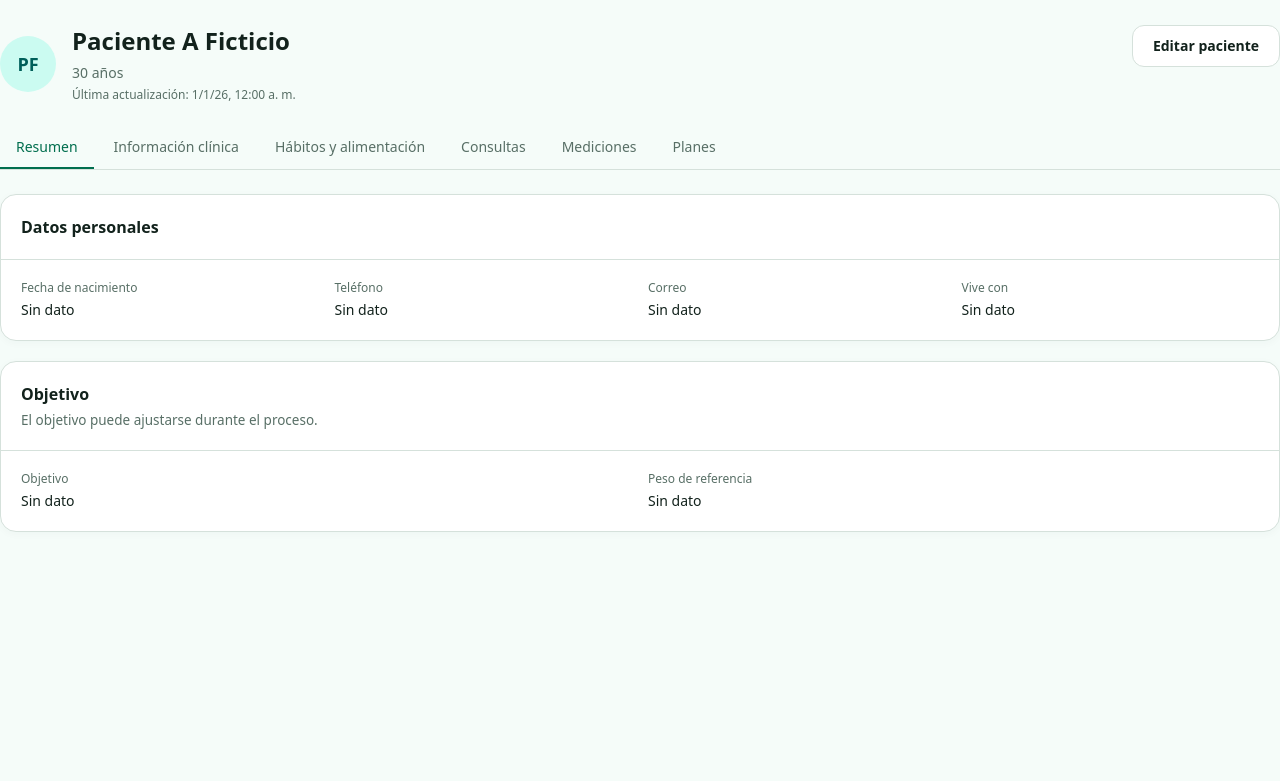
Test: ficha y pestañas con respuestas demoradas (AUD-017) › un error de eliminación vigente se muestra y permite reintentar
Click the button "Información clínica": coordinates (176, 148) [98,127,255,169]
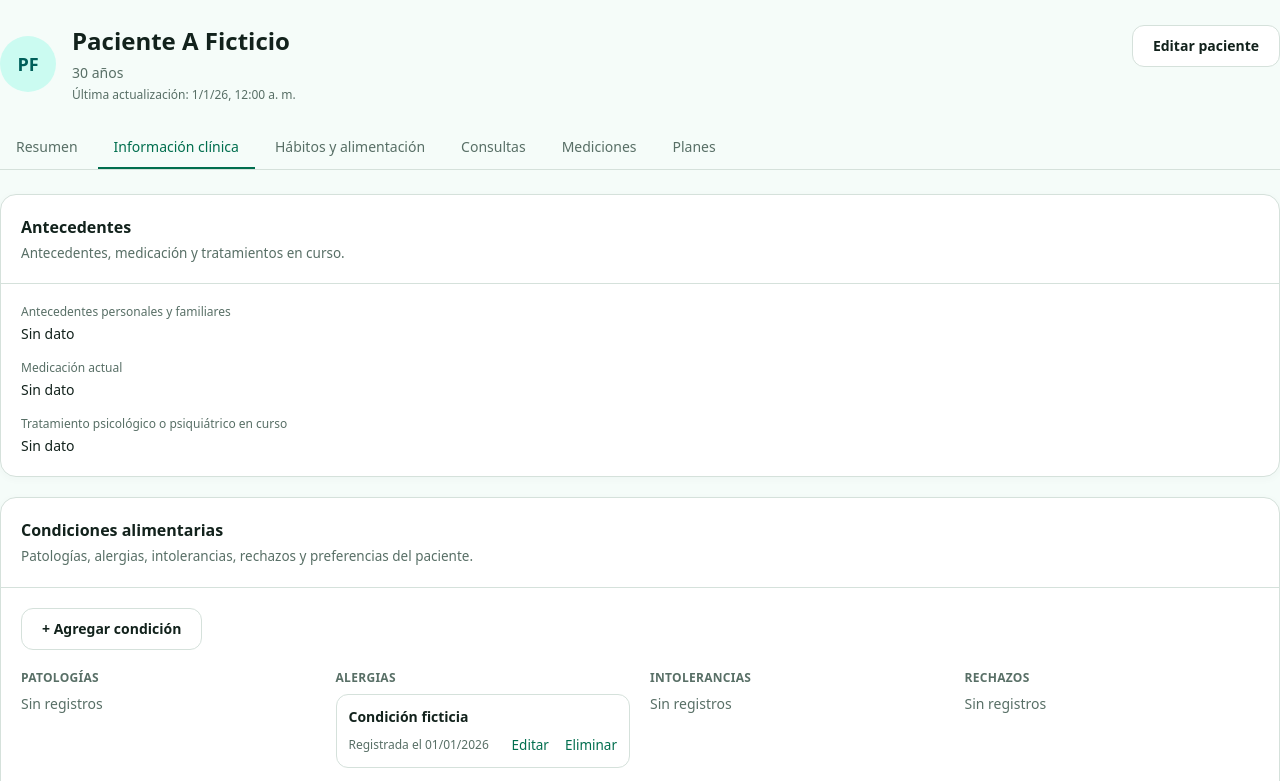
Expected: the button "Eliminar" is shown
Click the button "Eliminar": coordinates (591, 745) [565,734,617,755]
(page scrolled)
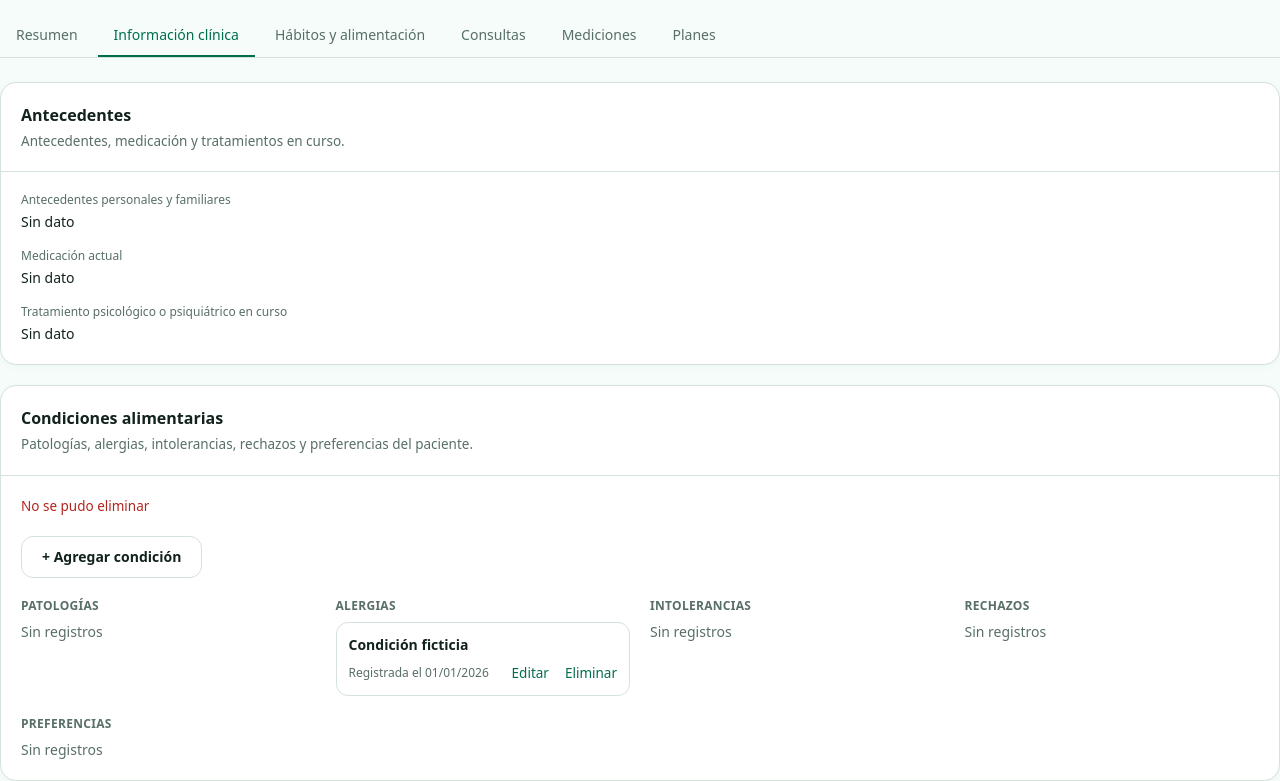
Expected: the text "Condición ficticia" is shown, [348,635,468,655]
Expected: the button "Eliminar" is shown
Expected: the message "No se pudo eliminar" is shown, [21,496,149,514]
Click the button "Eliminar": coordinates (591, 673) [565,663,617,683]
(page scrolled)
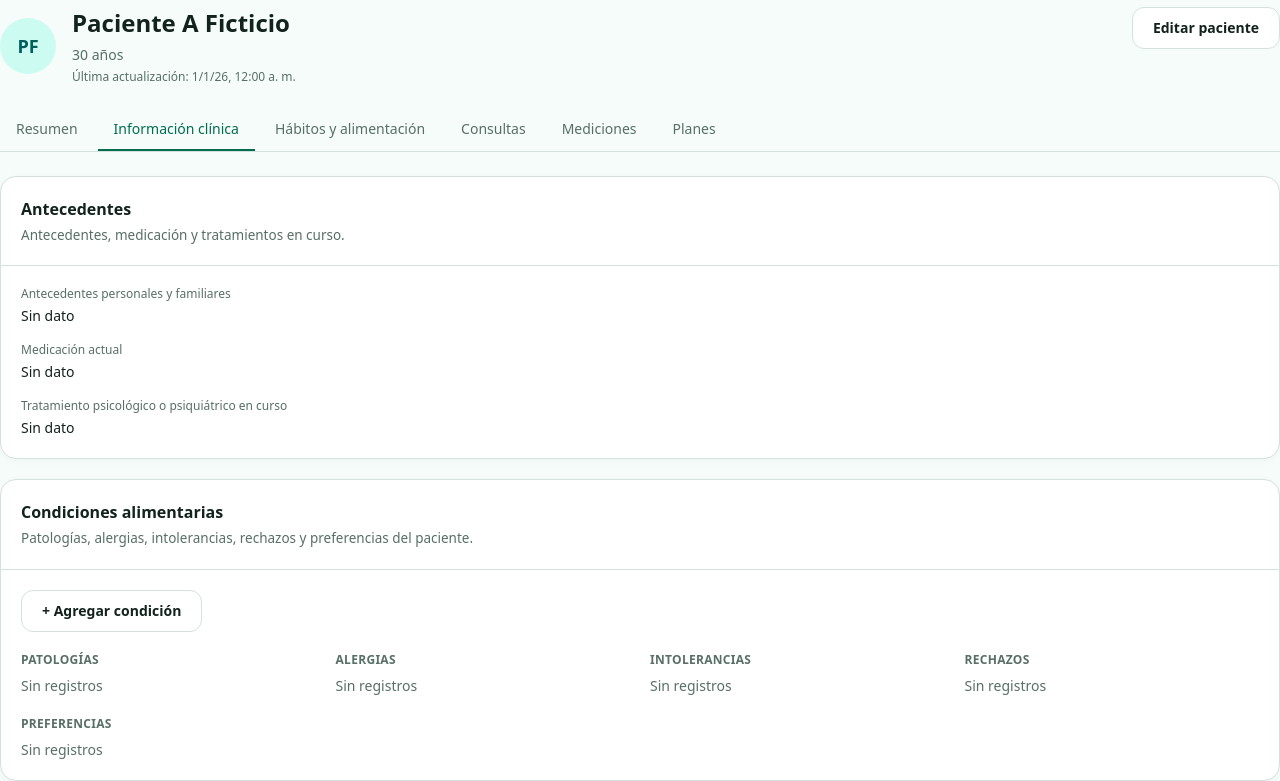
Expected: the message "No se pudo eliminar" is gone
